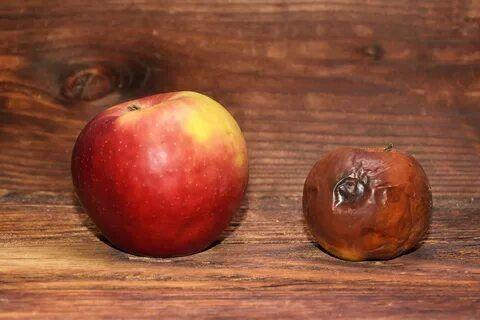Apple: (72, 90, 250, 255), (304, 150, 433, 260)
